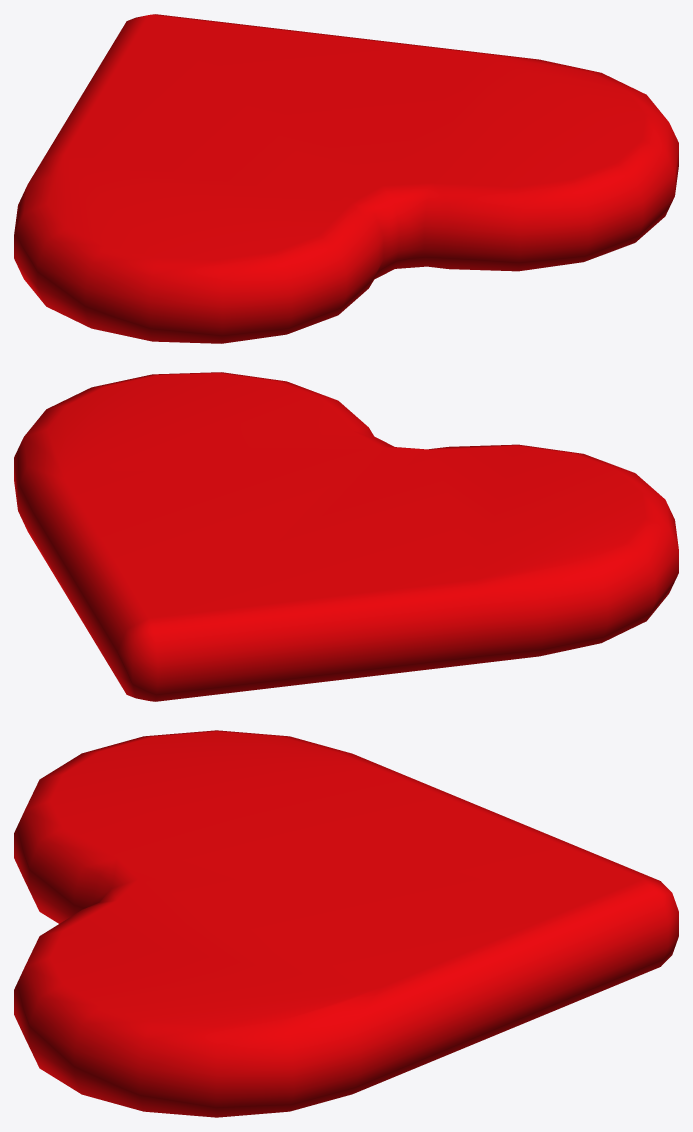
The model's file is WABD_elevator_low.fbx.
3 views of the same model, one above another, from view 1: azimuth 30°, elevation 25°; view 2: azimuth 150°, elevation 25°; view 3: azimuth 270°, elevation 25° (orthographic). The views are drawn at different scales.
Parts seen in each view (by area): view 1: elevator_lo; view 2: elevator_lo; view 3: elevator_lo.
Part boxes in pixels (bbox=[...]): elevator_lo: bbox=[14, 14, 678, 343]; elevator_lo: bbox=[14, 372, 678, 701]; elevator_lo: bbox=[14, 730, 678, 1117].
Size of the model in its own units: 156 by 20 by 135.
